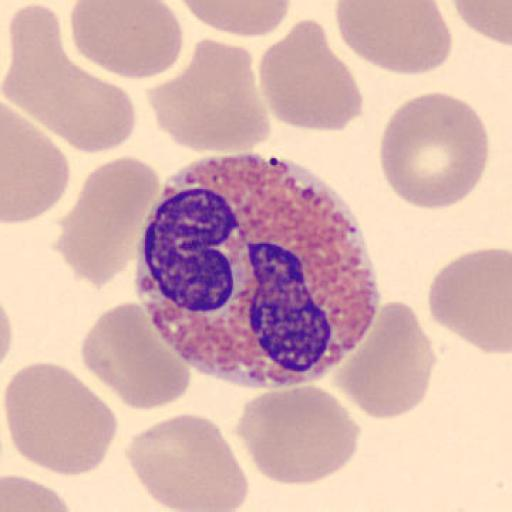RBC: (2, 2, 137, 155), (146, 36, 272, 154), (56, 154, 160, 290), (6, 50, 138, 155), (378, 89, 491, 211), (2, 361, 119, 477), (233, 384, 363, 486), (332, 299, 437, 420), (124, 411, 250, 511), (80, 300, 192, 411), (258, 17, 364, 133), (426, 246, 512, 356), (68, 0, 183, 80), (333, 0, 453, 76), (2, 105, 71, 225), (179, 0, 292, 38), (449, 0, 512, 48), (1, 474, 74, 512), (0, 300, 14, 372)
WBC: (136, 156, 377, 390)
